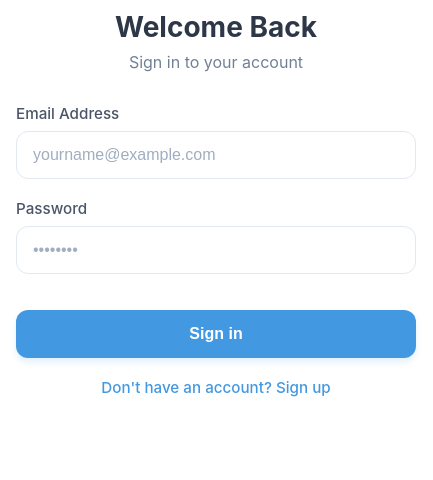
Test case: Login Component › testing when fail to handleSubmit and display errors
Type "testWrong@gmail.com" into the field with placeholder "yourname@example.com".
click(216, 155); type("testWrong@gmail.com")  # box [16,131,416,179]
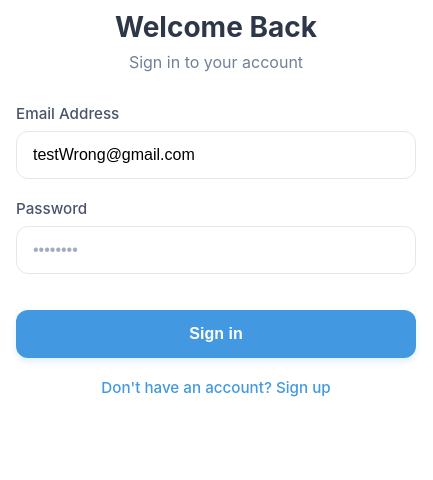
Type "000000" into the password field with placeholder "••••••••".
click(216, 250); type("000000")  # box [16,226,416,274]
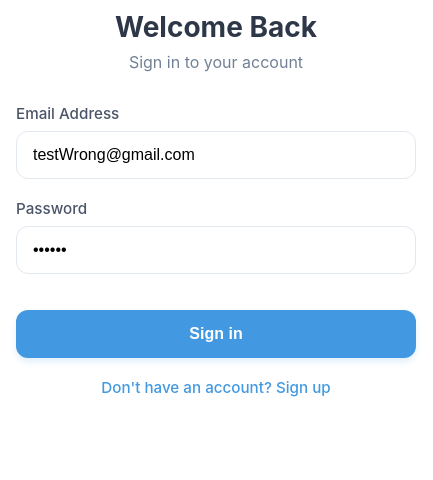
Click the button "Sign in".
click(216, 334)  # box [16,310,416,358]
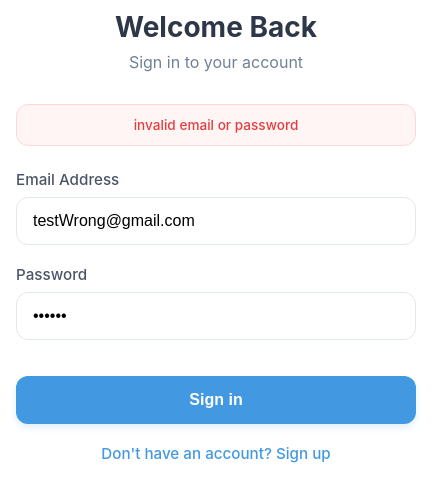
Now the text "invalid email or password" is shown, box [16,104,416,146]
